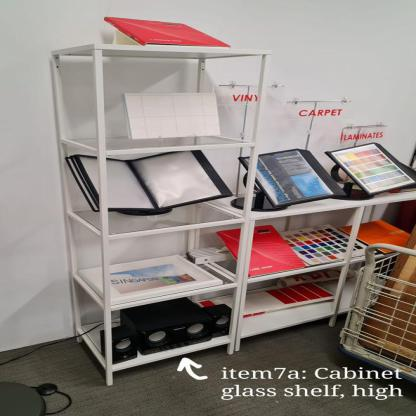lamp: (44, 40, 276, 388), (178, 181, 416, 353)
